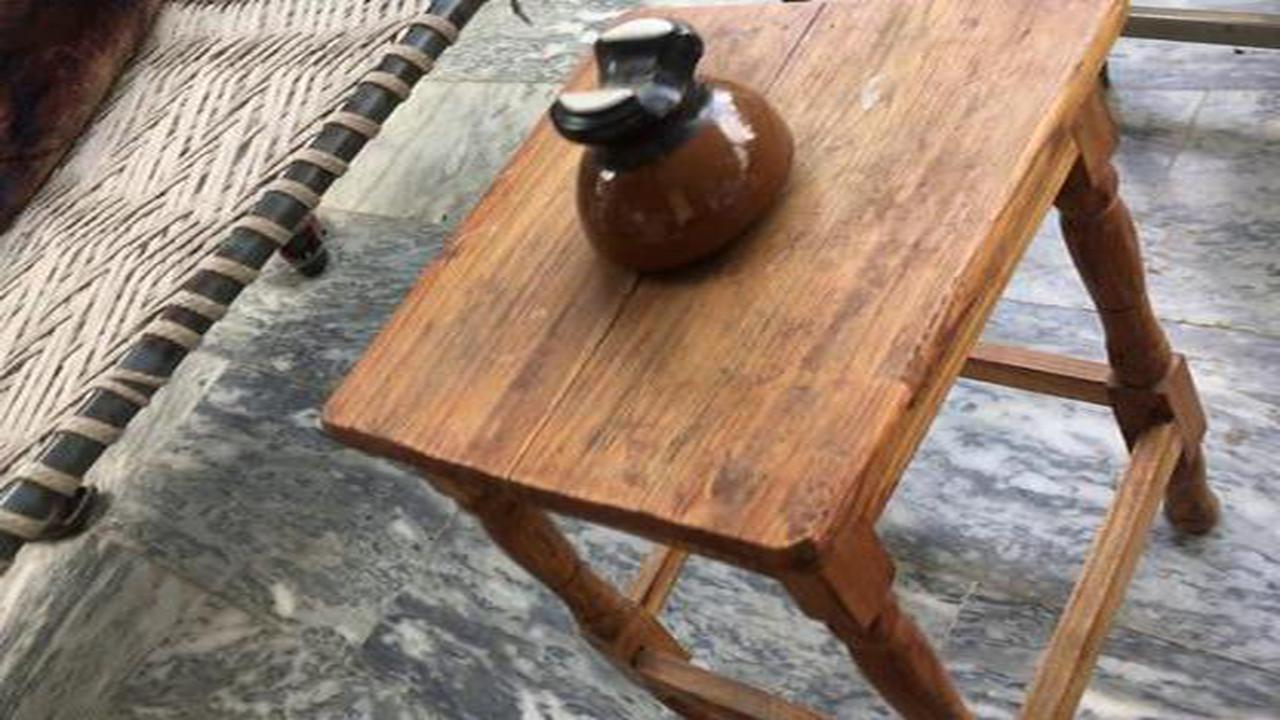insulator_pin: (530, 4, 816, 290)
